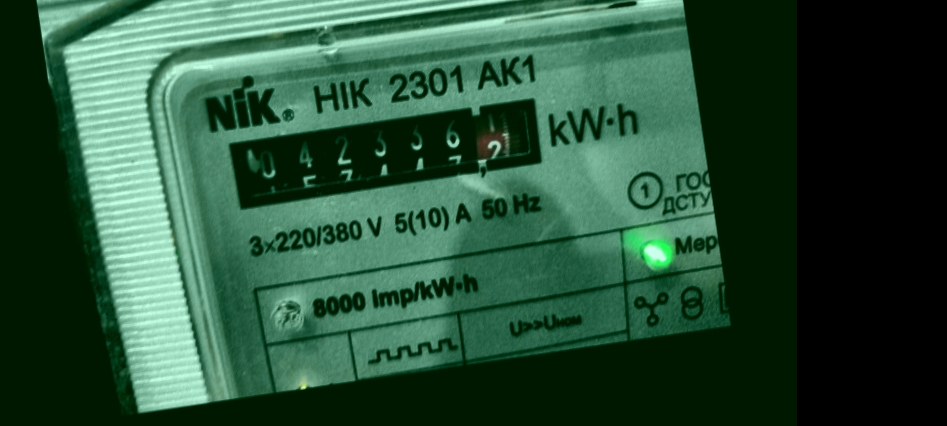0: (256, 146, 279, 181)
1: (482, 107, 498, 135)
2: (330, 130, 356, 167), (484, 138, 504, 161)
3: (367, 124, 389, 159), (405, 119, 427, 153)
4: (295, 136, 316, 170)
6: (440, 115, 465, 152)
screen: (215, 82, 559, 221)
